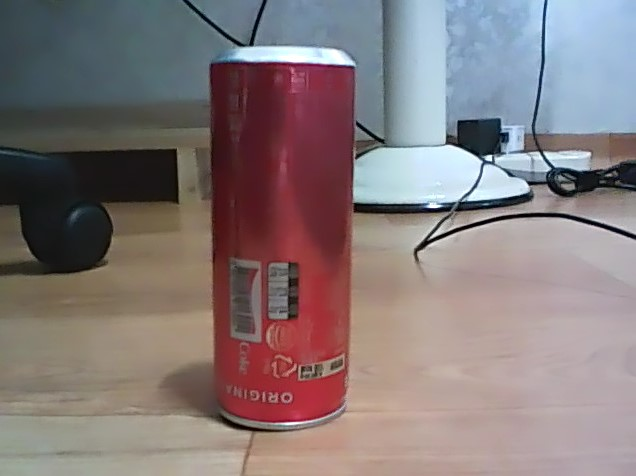Can: (203, 39, 359, 437)
